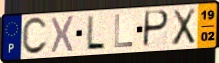C: (21, 16, 49, 57)
L: (84, 14, 107, 51), (113, 14, 134, 49)
P: (141, 9, 171, 49)
X: (171, 7, 198, 48), (49, 14, 76, 55)
